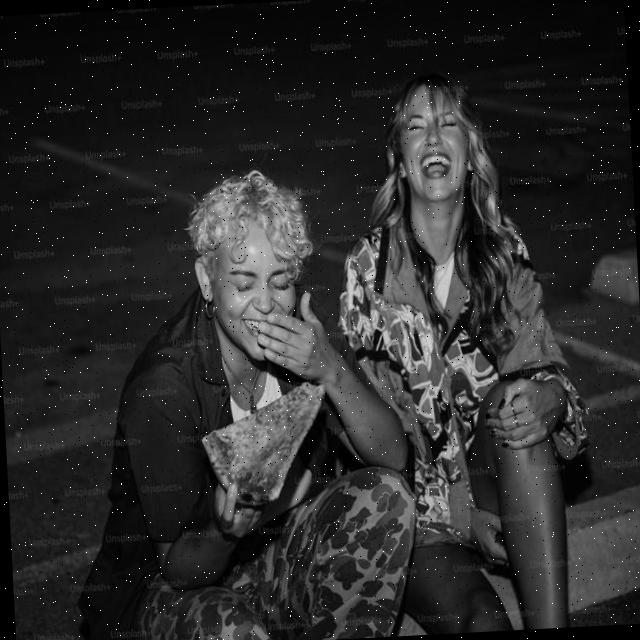Happiness: (208, 214, 299, 364), (399, 82, 472, 202)
